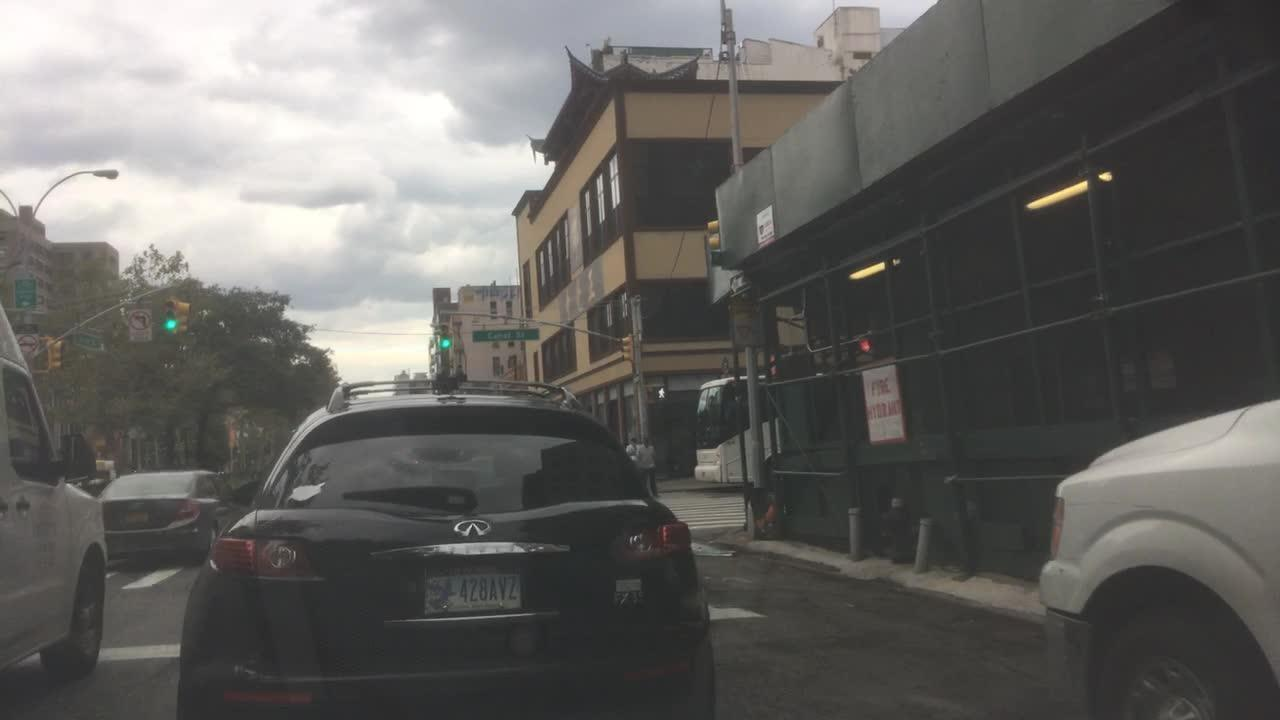Infiniti: (448, 512, 504, 541)
